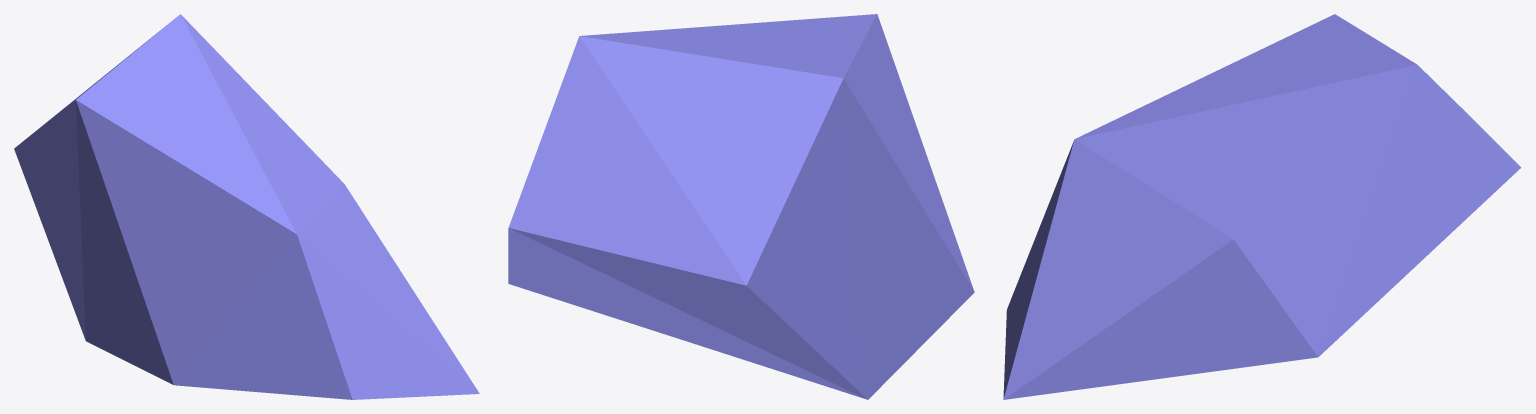
Rendered from Rock_06_Collider_01.FBX.
3 views of the same model, side by side, from view 1: azimuth 30°, elevation 25°; view 2: azimuth 150°, elevation 25°; view 3: azimuth 270°, elevation 25° (orthographic). The views are drawn at different scales.
Parts seen in each view (by area): view 1: COLLIDER1; view 2: COLLIDER1; view 3: COLLIDER1.
Boxes of the visible parts, x1,y1,x2,y2 form: COLLIDER1: [14, 14, 479, 399]; COLLIDER1: [508, 14, 974, 399]; COLLIDER1: [1003, 14, 1521, 399].
Size of the model in its own units: 20.69 by 20.66 by 34.56.
